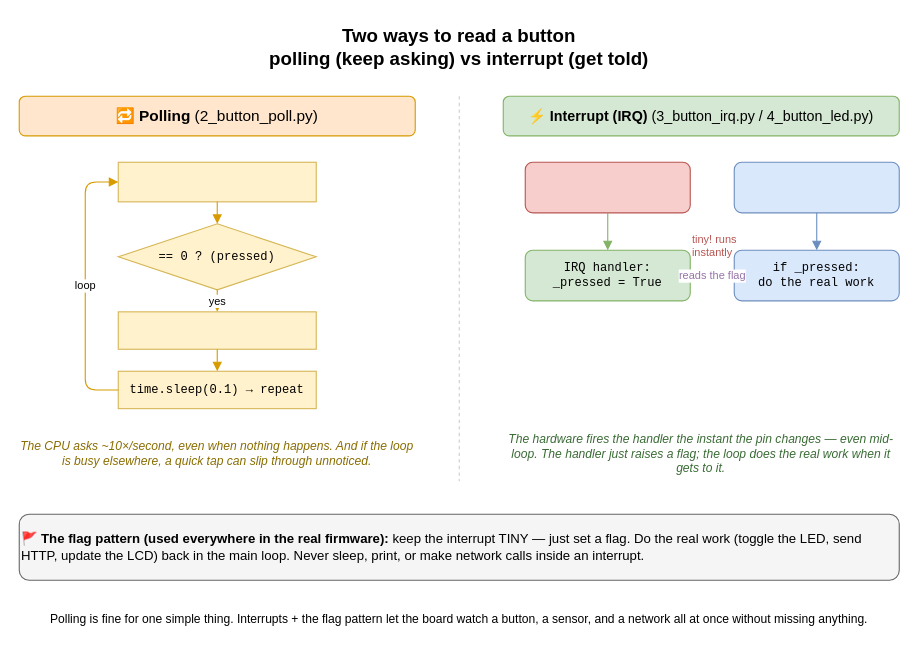
Some shapes in this 919 by 659 pixel diagram are drawn without their labels. The shapes that lost their labels are listed below. From the top down, each one's centre as x and y in pixels, then its label:
(x=216, y=181): check button.value()
(x=607, y=187): button press (the hardware notices)
(x=816, y=187): main loop (free to do other work)
(x=216, y=330): print("Pressed!")
